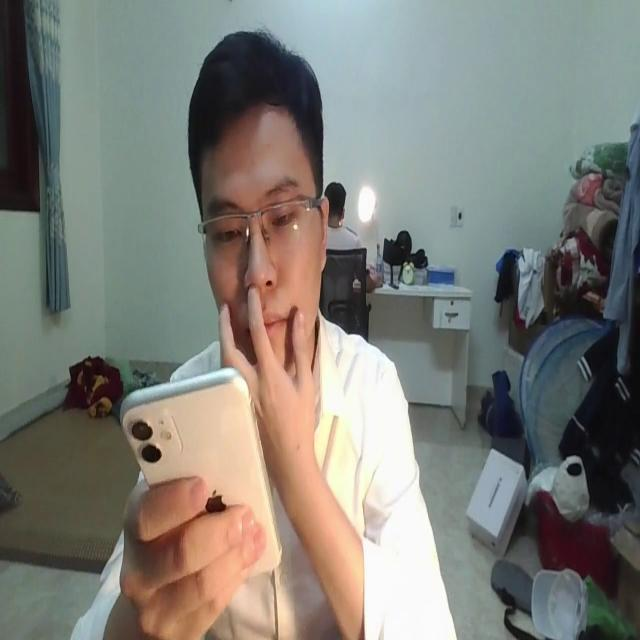phone: (118, 369, 286, 568)
student: (87, 24, 450, 640)
